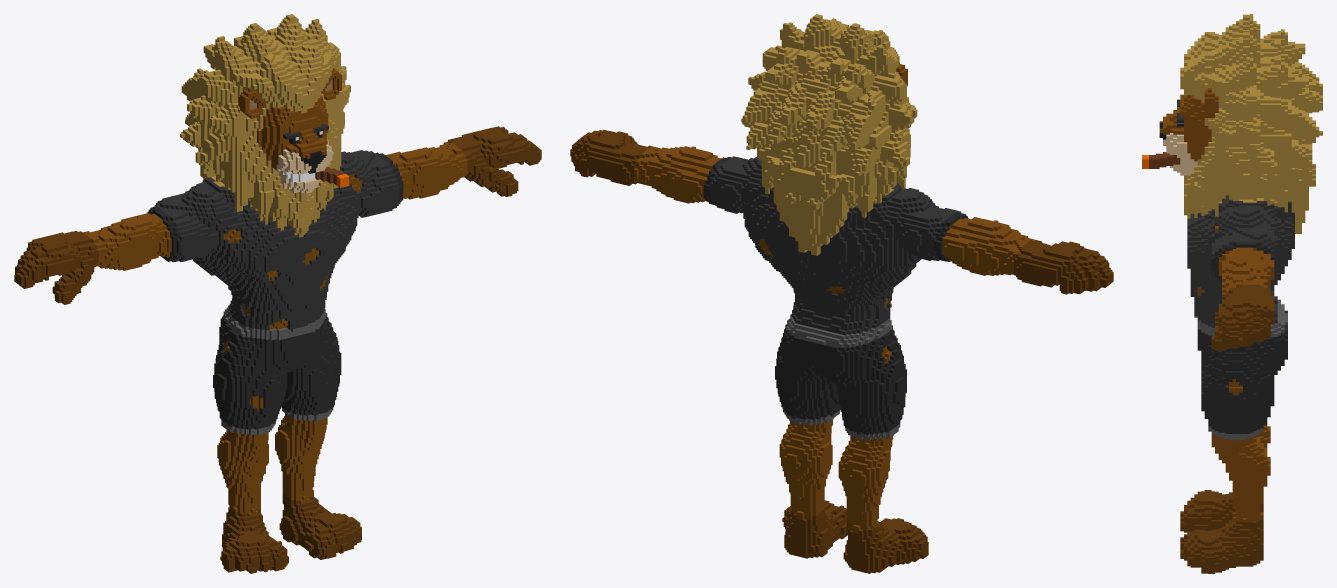
Rendered from 847-h7mMYrkr.glb.
3 views of the same model, side by side, from view 1: azimuth 30°, elevation 25°; view 2: azimuth 150°, elevation 25°; view 3: azimuth 270°, elevation 25° (orthographic). The views are drawn at different scales.
Visible parts, largest first — view 1: cigar; view 2: cigar; view 3: cigar.
Boxes of the visible parts, x1=… form: cigar: x1=14, y1=14, x2=541, y2=573; cigar: x1=570, y1=14, x2=1113, y2=573; cigar: x1=1142, y1=14, x2=1322, y2=573.
Bounding box in the file's own units: 17.2 × 16.5 × 5.2.
Materials: 5 (5 with a texture image).
